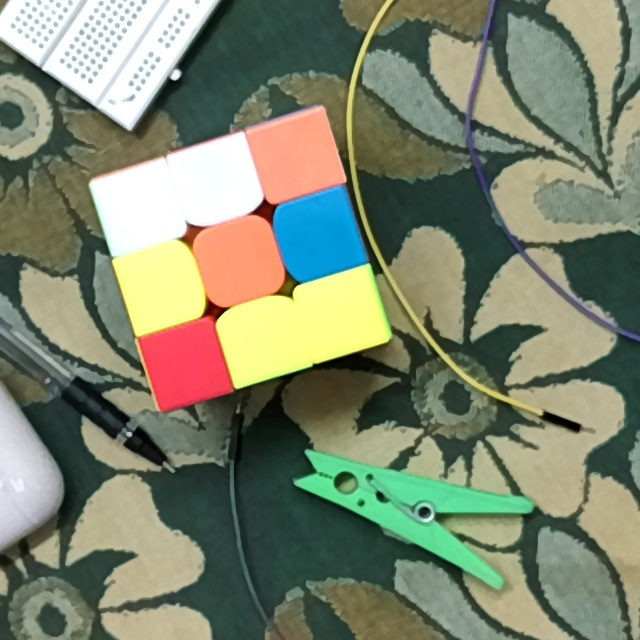tile: (209, 233, 269, 293), (108, 179, 167, 240), (186, 152, 247, 211), (268, 126, 329, 185), (312, 286, 371, 345), (131, 257, 191, 315), (234, 313, 294, 369), (293, 204, 348, 265), (161, 334, 216, 395)
